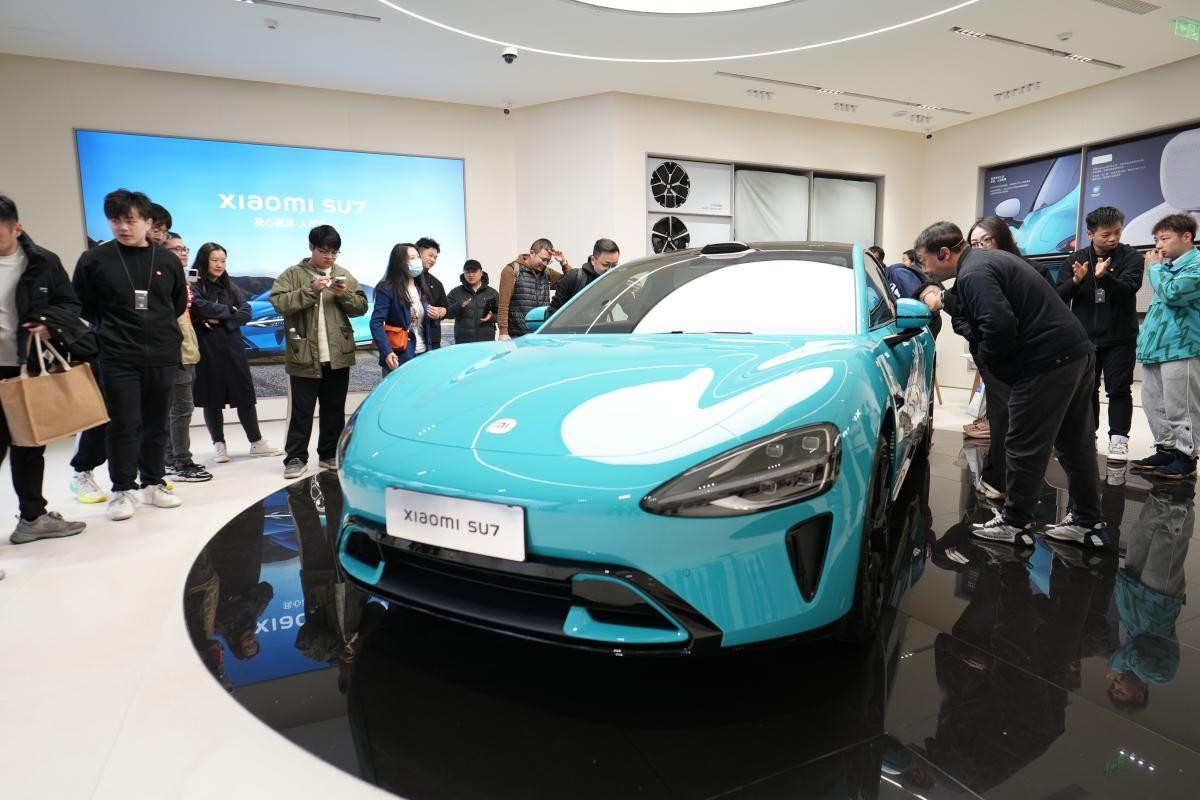su7: (321, 245, 942, 644)
